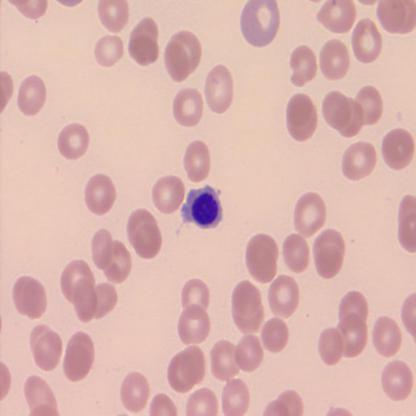NRC: (178, 183, 224, 231)
